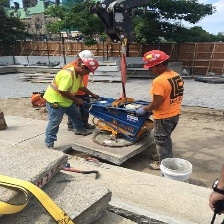helmet: (141, 51, 171, 69), (77, 58, 101, 75), (77, 51, 97, 59)
person: (142, 50, 197, 172), (41, 58, 99, 151), (64, 51, 97, 134)
vest: (150, 76, 190, 120), (52, 69, 81, 105), (67, 63, 77, 69)
